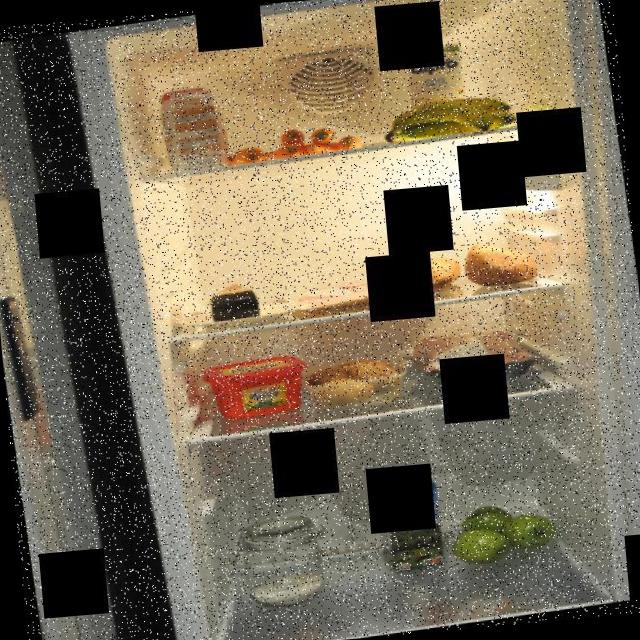Carne cerdo: (276, 268, 438, 316)
Carne pollo: (397, 318, 543, 398)
Leche: (368, 461, 450, 575), (402, 36, 472, 134)
Mantequilla: (199, 351, 313, 425)
Manzana: (446, 494, 562, 570)
Patata: (292, 349, 408, 412)
Plátano: (380, 90, 520, 147)
Queso: (202, 276, 264, 326)
Zanahoria: (224, 115, 370, 169)
